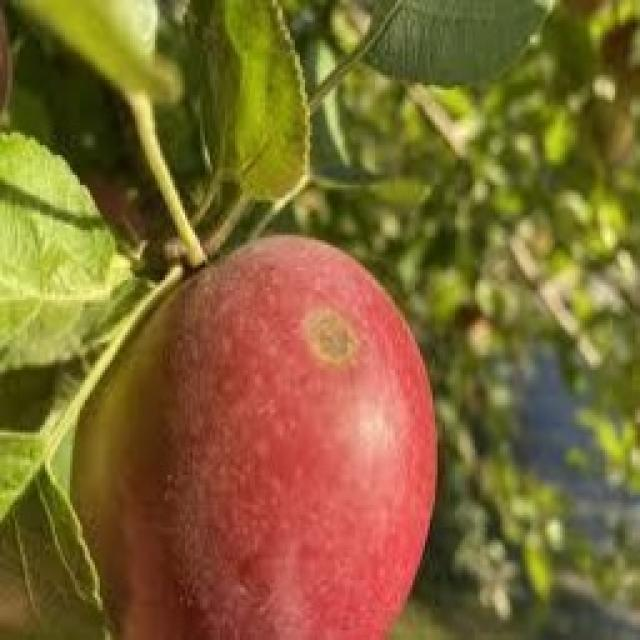defective: (65, 230, 440, 638)
